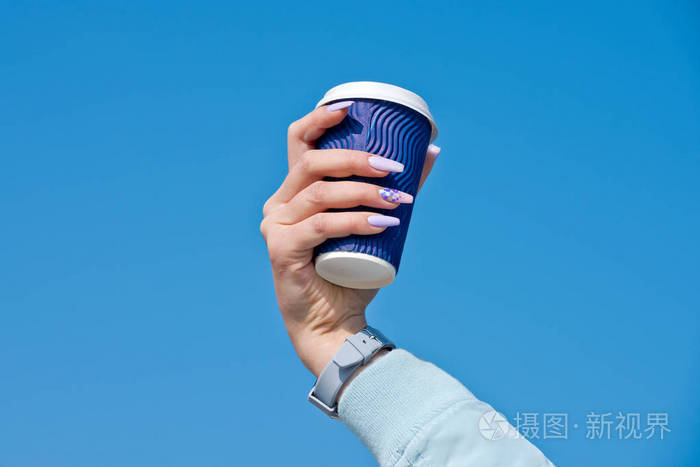no-phone: (255, 76, 446, 356)
